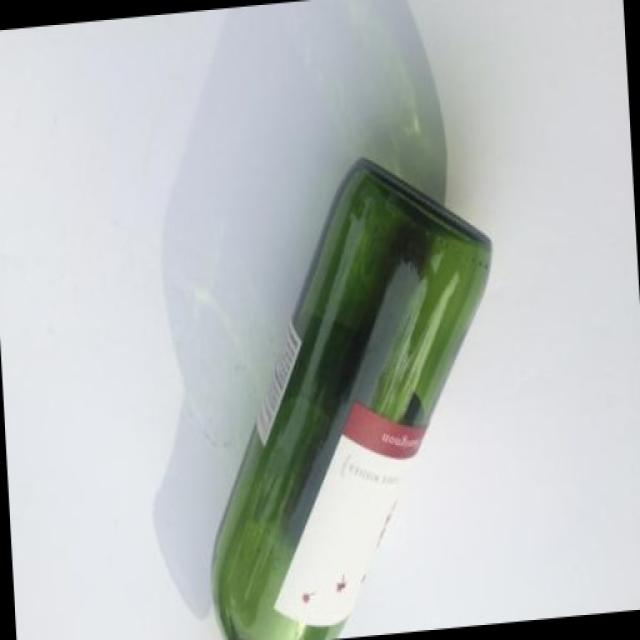vidrio: (168, 133, 546, 640)
